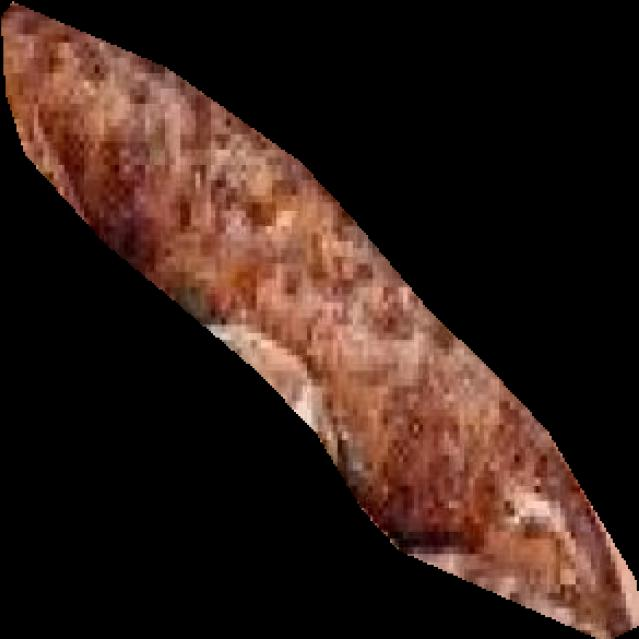Pitting Corrosion: (1, 0, 639, 639)
